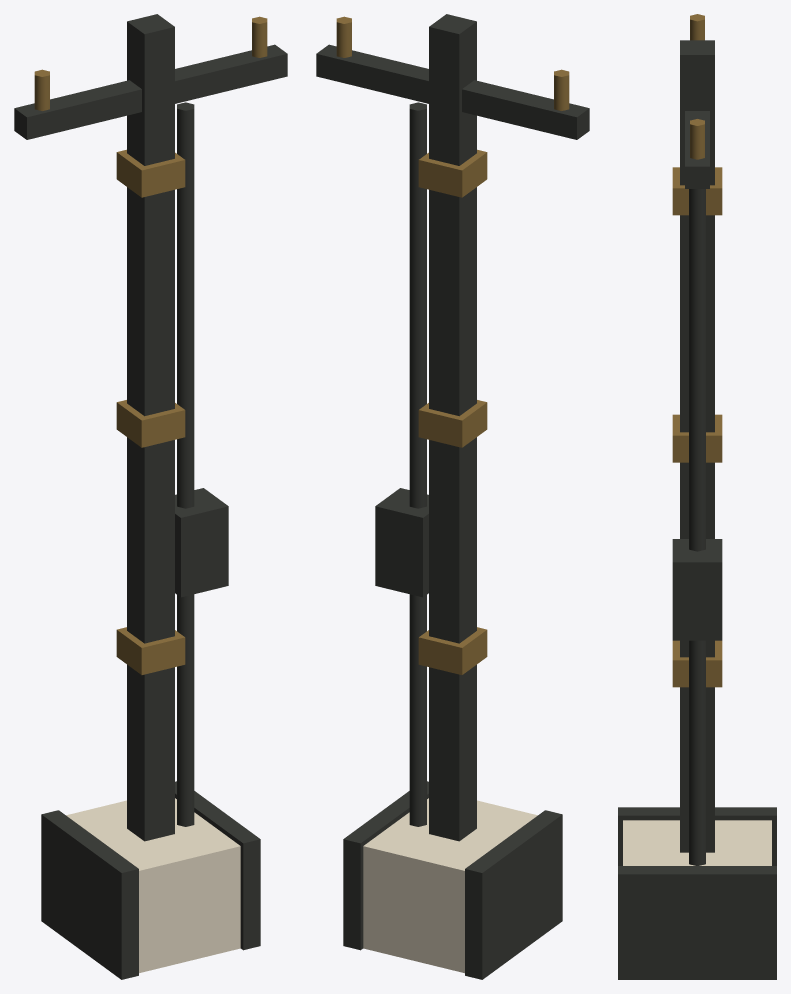
File: power_pole.glb
3 views of the same model, side by side, from view 1: azimuth 30°, elevation 25°; view 2: azimuth 150°, elevation 25°; view 3: azimuth 270°, elevation 25° (orthographic).
Visible parts, largest first — view 1: power_pole; view 2: power_pole; view 3: power_pole.
Boxes of the visible parts, x1,y1,x2,y2 form: power_pole: [14, 14, 287, 979]; power_pole: [316, 14, 589, 979]; power_pole: [618, 14, 776, 979].
Bounding box in the file's own units: 1.2 × 4 × 0.64.
